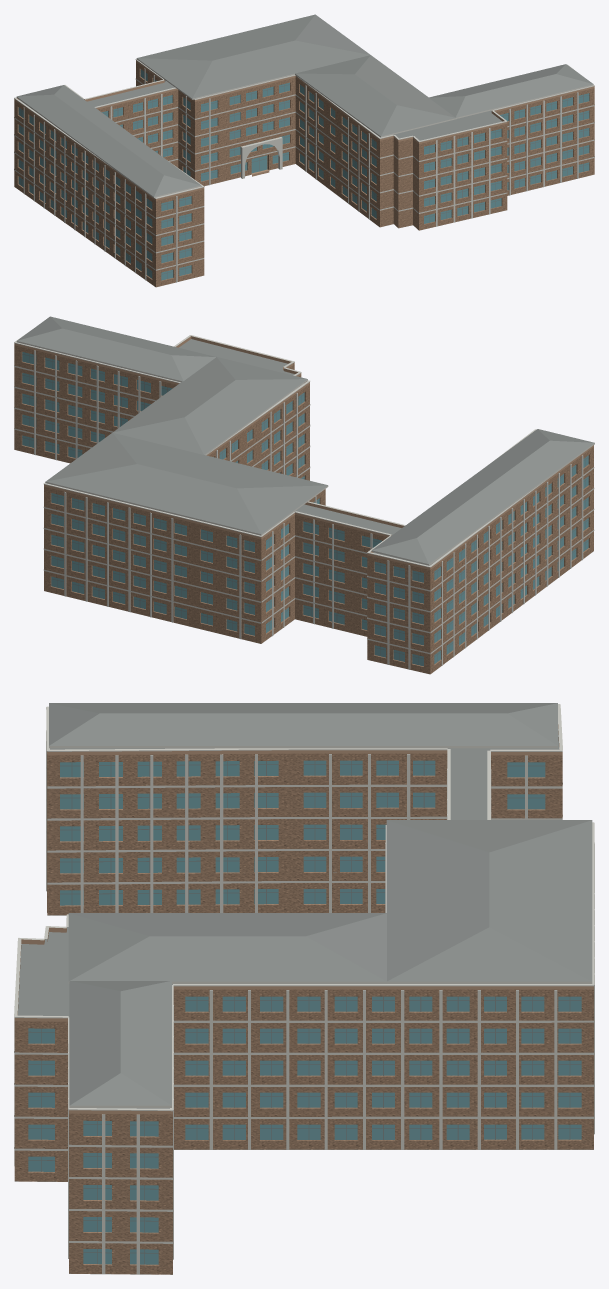
3 renders of one model, top to bottom at view 1: azimuth 30°, elevation 25°; view 2: azimuth 150°, elevation 25°; view 3: azimuth 270°, elevation 25°, orthographic. The views are drawn at different scales.
Visible parts, largest first — view 1: social__wall, social__roof, social__glass, social__trim, social__frame, social__parapet; view 2: social__wall, social__roof, social__glass, social__trim, social__frame, social__parapet; view 3: social__wall, social__roof, social__glass, social__trim, social__frame, social__parapet.
Part boxes in pixels (x1,y1,x2,y2): social__wall: (14,62,594,287); social__roof: (17,14,593,284); social__glass: (18,69,589,280); social__trim: (14,58,594,282); social__frame: (19,70,589,278); social__parapet: (14,60,594,200); social__wall: (14,345,593,674); social__roof: (17,316,594,673); social__glass: (22,352,588,666); social__trim: (14,332,594,669); social__frame: (22,354,588,664); social__parapet: (14,336,593,569); social__wall: (14,753,593,1274); social__roof: (15,703,593,1274); social__glass: (28,760,581,1264); social__trim: (14,704,594,1274); social__frame: (28,760,581,1264); social__parapet: (14,724,593,1114).
Size of the model in its own units: 97.91 by 20.45 by 59.17.
Materials: 8 (1 with a texture image).
